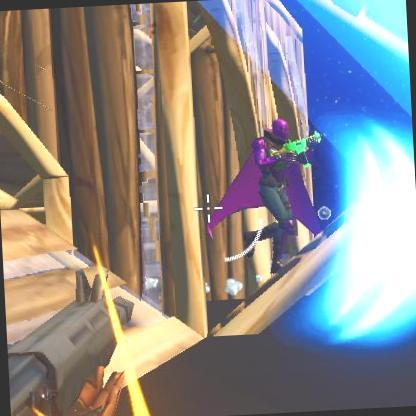person: (258, 121, 316, 265)
